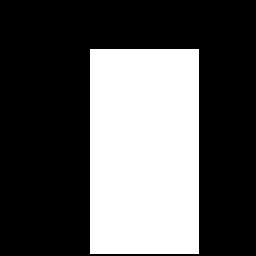person: (90, 49, 198, 253)
